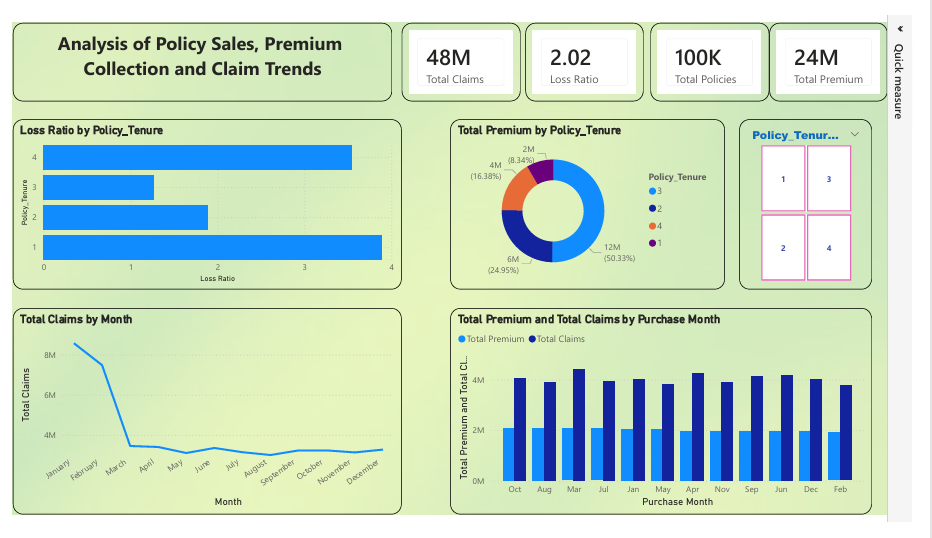

Layout of this report page (visuals, bound fields, positions):
{"tool":"powerbi","page":{"name":"Page 1","canvas":[1280,720],"ordinal":0},"visuals":[{"type":"clusteredColumnChart","fields":{"Y":["claims_data.Total Premium","claims_data.Total Claims"],"Category":["policy_sales_data.Purchase Month"]},"box":[640,417.1,617.3,301.8],"z":0},{"type":"lineChart","fields":{"Category":["claims_data.Claim_Date.Variation.Date Hierarchy.Month"],"Y":["claims_data.Total Claims"]},"box":[0,417.1,568.7,301.8],"z":1000},{"type":"barChart","fields":{"Category":["policy_sales_data.Policy_Tenure"],"Y":["claims_data.Loss Ratio"]},"box":[0,141,568.7,248.7],"z":2000},{"type":"cardVisual","fields":{"Data":["policy_sales_data.Total Policies"]},"box":[933.4,0,173.3,115],"z":3000},{"type":"cardVisual","fields":{"Data":["claims_data.Total Premium"]},"box":[1106.7,0,173.3,115],"z":4000},{"type":"cardVisual","fields":{"Data":["claims_data.Total Claims"]},"box":[569.4,0,173.3,115],"z":5000},{"type":"cardVisual","fields":{"Data":["claims_data.Loss Ratio"]},"box":[749.9,0,173.3,115],"z":6000},{"type":"donutChart","fields":{"Category":["policy_sales_data.Policy_Tenure"],"Y":["claims_data.Total Premium"]},"box":[640,141,401.9,248.7],"z":7000},{"type":"textbox","box":[0,0,554.8,115],"z":8000},{"type":"slicer","fields":{"Values":["policy_sales_data.Policy_Tenure"]},"box":[1063.1,141,194.1,248.7],"z":9000}]}

Visuals, with their boxes in screenshot pixels (x1, y1, x2, y2):
clusteredColumnChart - claims_data.Total Premium x claims_data.Total Claims: bbox=(451, 308, 878, 517)
lineChart - claims_data.Claim_Date.Variation.Date Hierarchy.Month x claims_data.Total Claims: bbox=(7, 308, 401, 517)
barChart - policy_sales_data.Policy_Tenure x claims_data.Loss Ratio: bbox=(7, 117, 401, 289)
cardVisual - policy_sales_data.Total Policies: bbox=(654, 19, 774, 99)
cardVisual - claims_data.Total Premium: bbox=(774, 19, 894, 99)
cardVisual - claims_data.Total Claims: bbox=(402, 19, 522, 99)
cardVisual - claims_data.Loss Ratio: bbox=(527, 19, 647, 99)
donutChart - policy_sales_data.Policy_Tenure x claims_data.Total Premium: bbox=(451, 117, 729, 289)
textbox: bbox=(7, 19, 392, 99)
slicer - policy_sales_data.Policy_Tenure: bbox=(744, 117, 878, 289)
